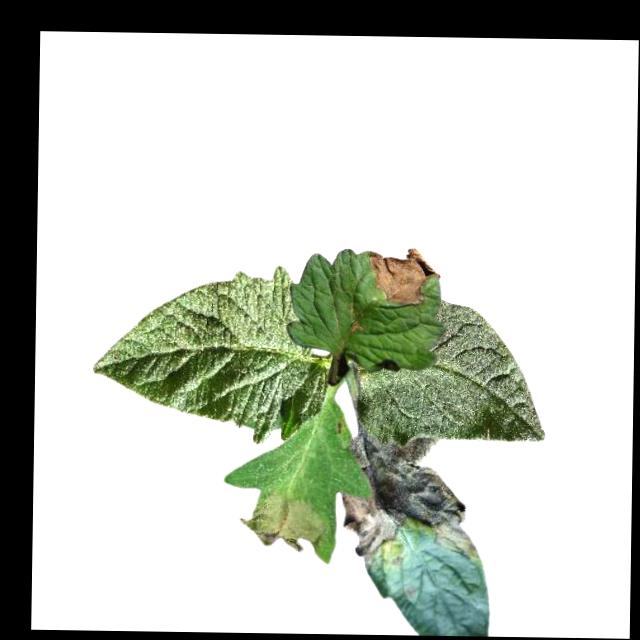Late_blight: (337, 436, 483, 572), (233, 492, 326, 552), (368, 246, 441, 307)
